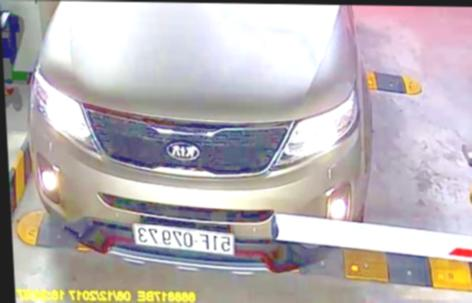License_Plate: (126, 218, 236, 258)
